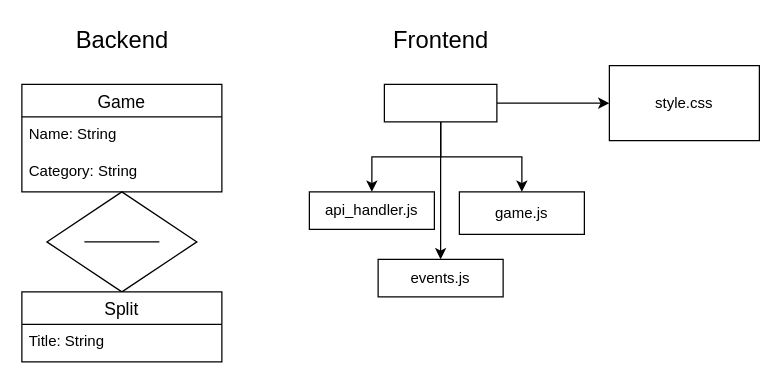
The diagram is 781 pixels wide and 386 high, and some of its shapes have lost their labels. Each missing label, with the centre of its shape:
"has_many: belongs_to:" goes at point (121, 241).
"index.html" goes at point (440, 102).
